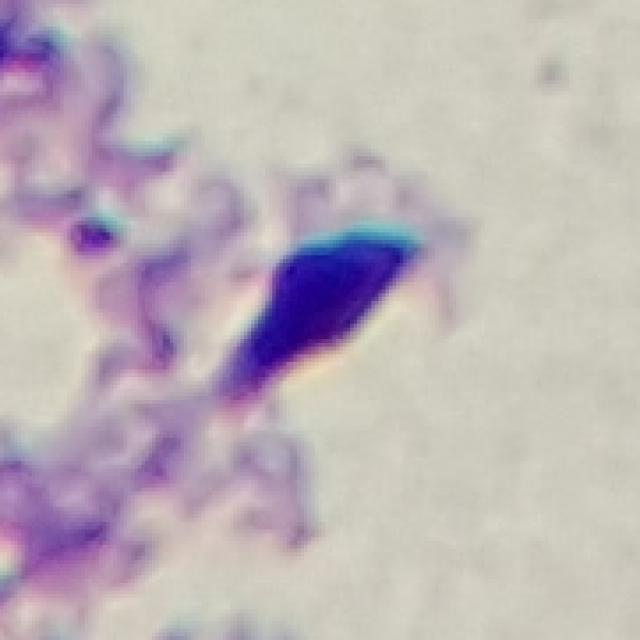abnormal sperm: (172, 217, 444, 440)
